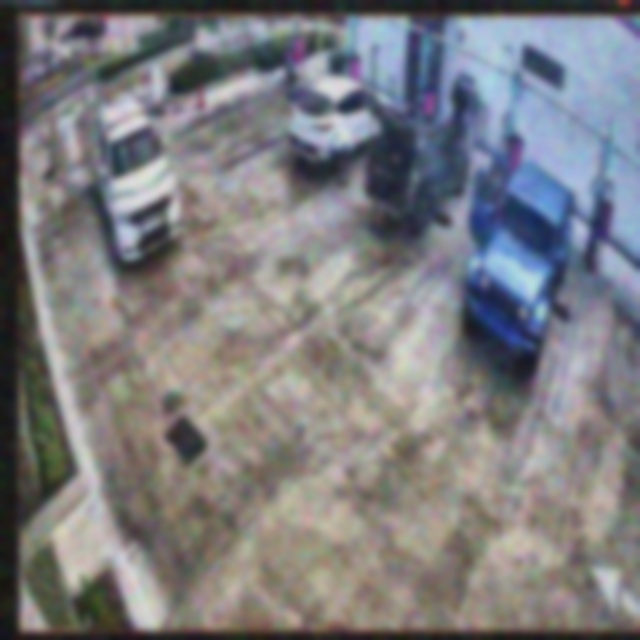Car: (466, 164, 573, 374), (94, 100, 185, 261), (361, 105, 468, 230), (282, 72, 393, 168)
